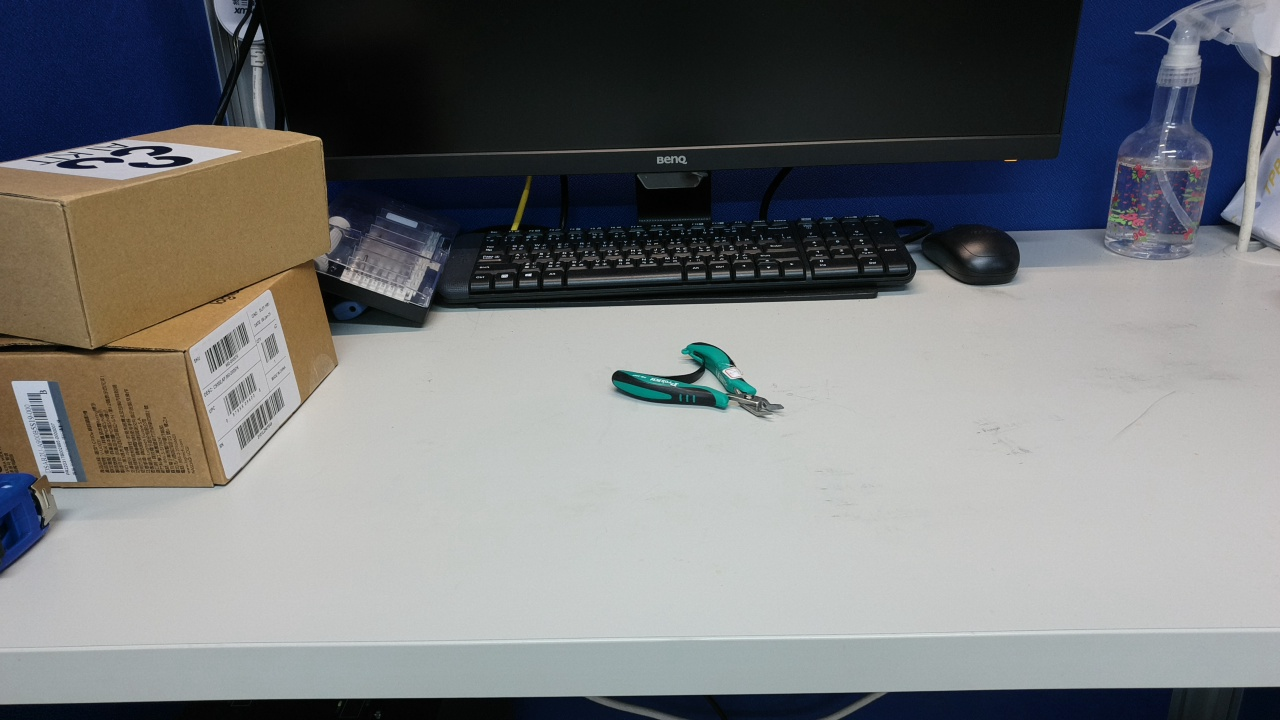columnar: (663, 172, 868, 501)
